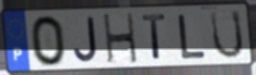H: (101, 11, 140, 66)
J: (72, 15, 100, 65)
L: (177, 13, 208, 60)
O: (29, 13, 68, 68)
T: (140, 13, 169, 62)
U: (209, 8, 246, 61)
